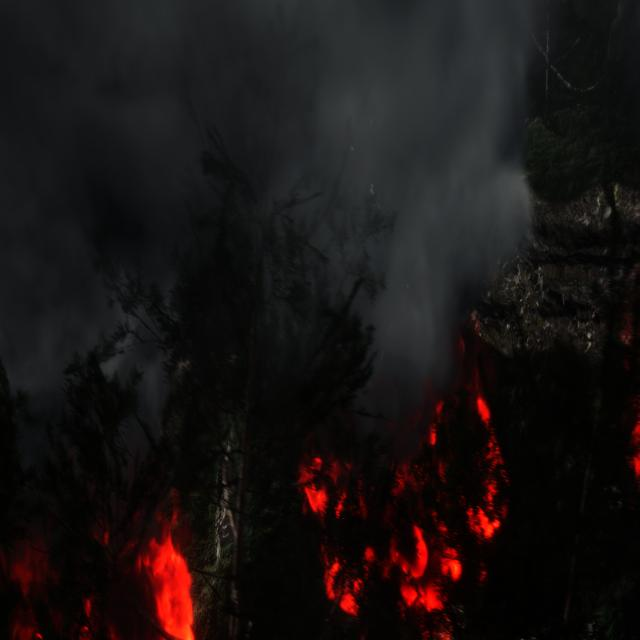Human: (359, 139, 388, 243)
